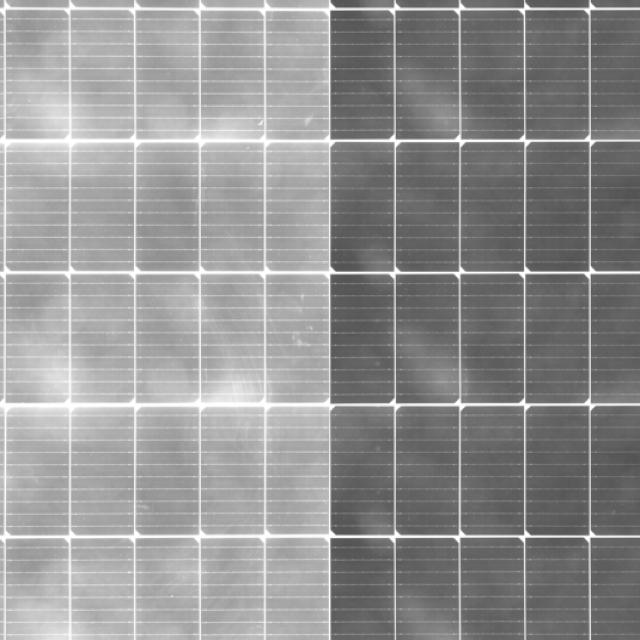CORRECT: (0, 0, 610, 636), (80, 52, 617, 542)
